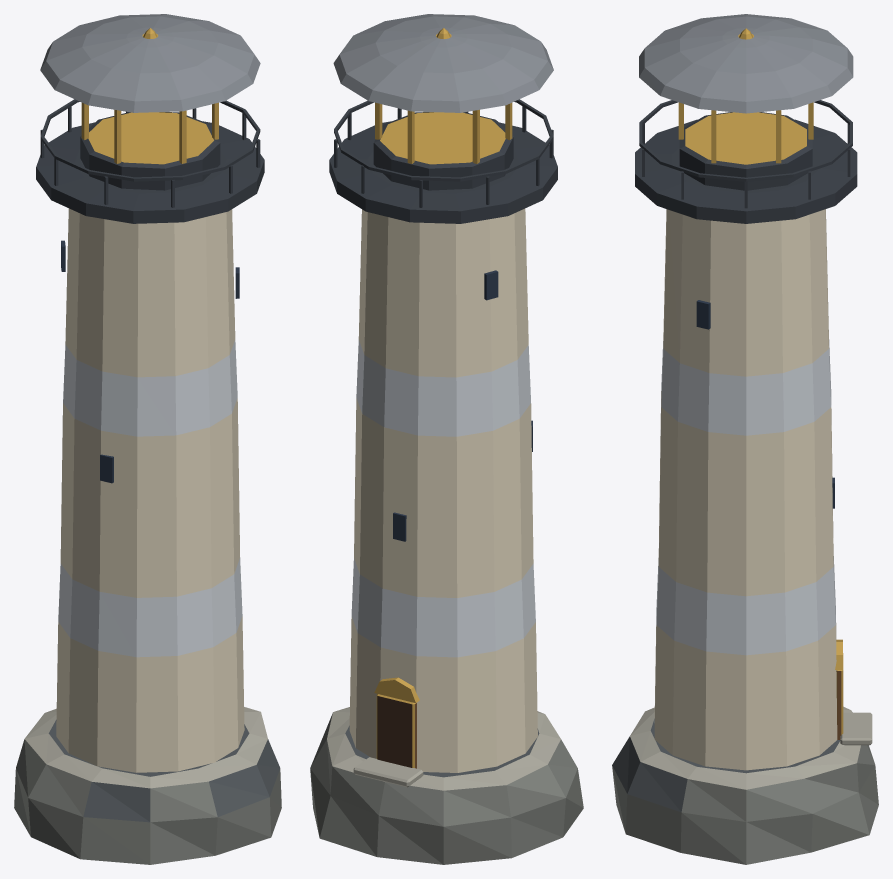
File: Lighthouse.obj
The picture shows the model from 3 angles, left to right: view 1: azimuth 30°, elevation 25°; view 2: azimuth 150°, elevation 25°; view 3: azimuth 270°, elevation 25°; orthographic projection.
Bounding box in the file's own units: 7.06 × 21.42 × 6.67.
